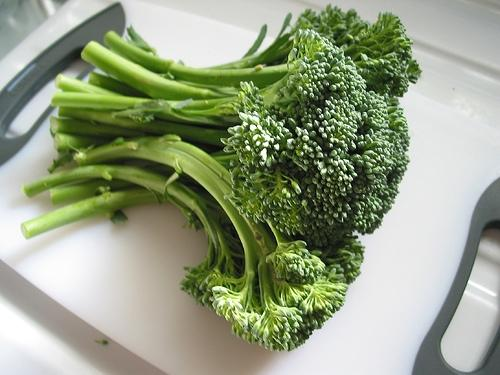broccoli: (21, 85, 412, 352), (51, 28, 370, 110), (265, 218, 326, 286), (51, 117, 159, 138), (49, 178, 136, 204), (56, 75, 125, 97), (54, 132, 116, 151)
